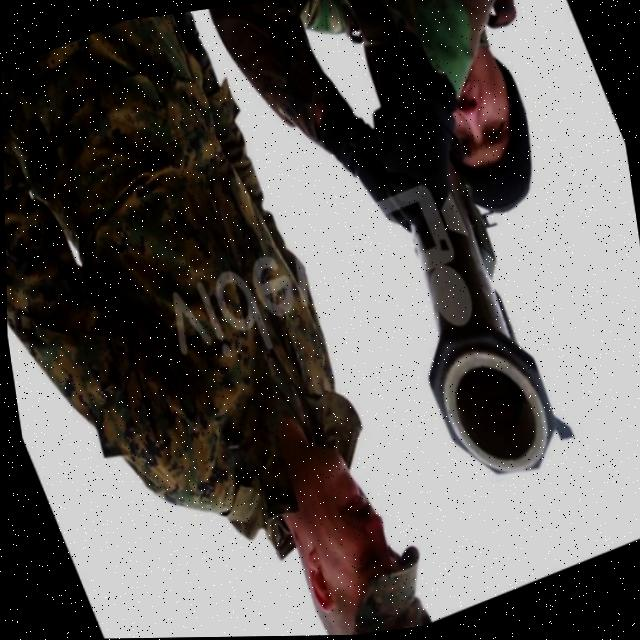rocket: (353, 158, 581, 506)
